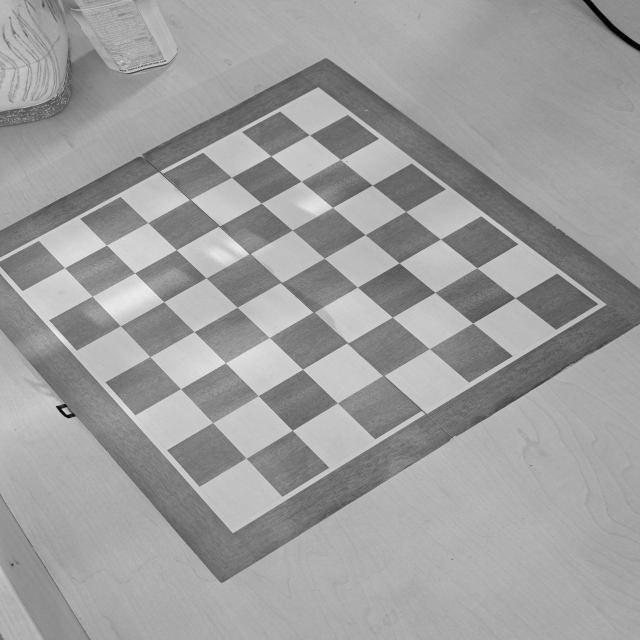chess-table-corners: (222, 518, 245, 534), (588, 298, 608, 310), (308, 86, 326, 98)
